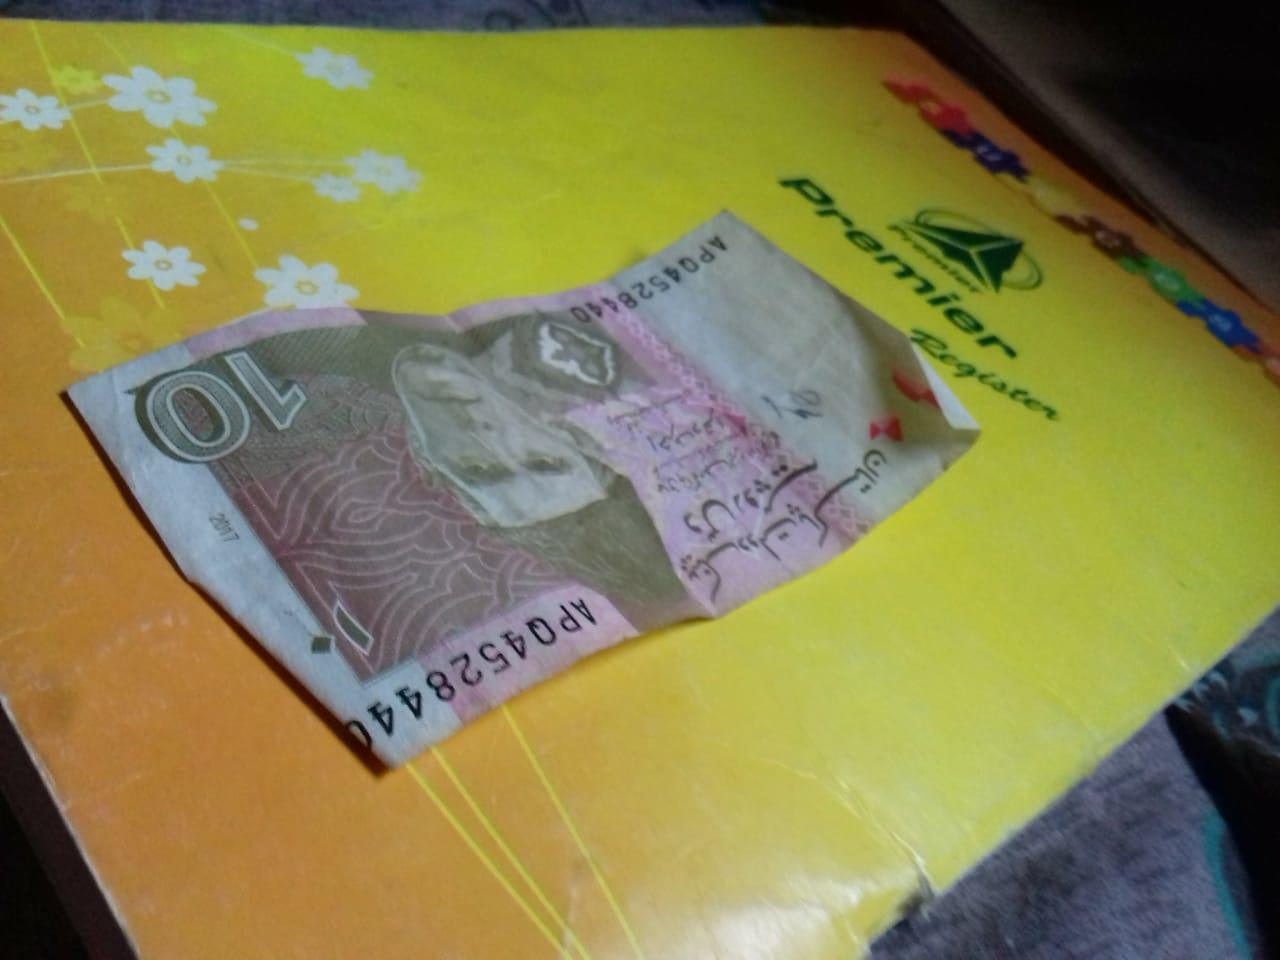10 rupee: (33, 178, 979, 748)
